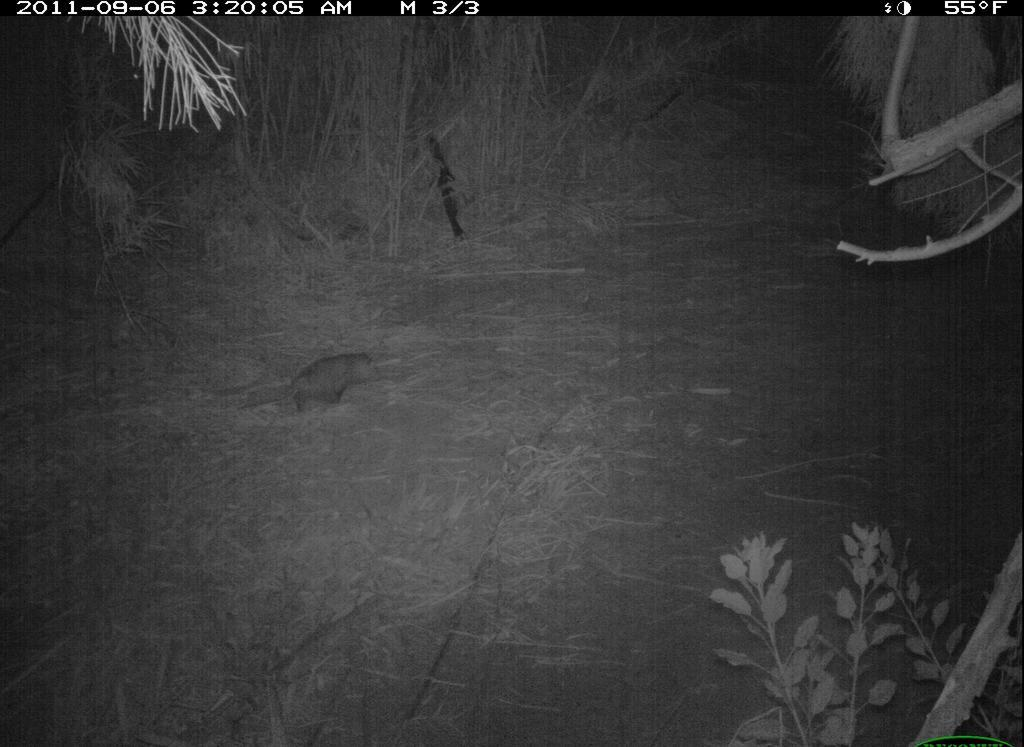opossum: (230, 331, 397, 425)
